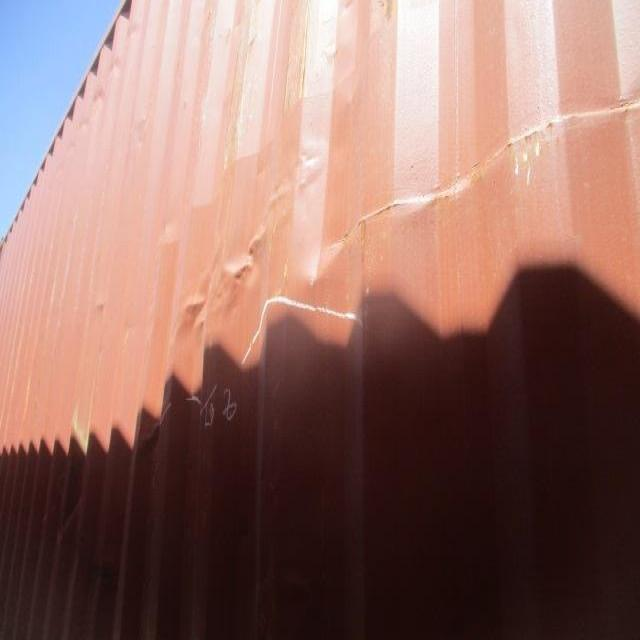Dent: (131, 152, 400, 464)
